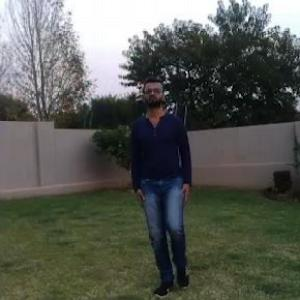follow: (130, 69, 195, 290)
